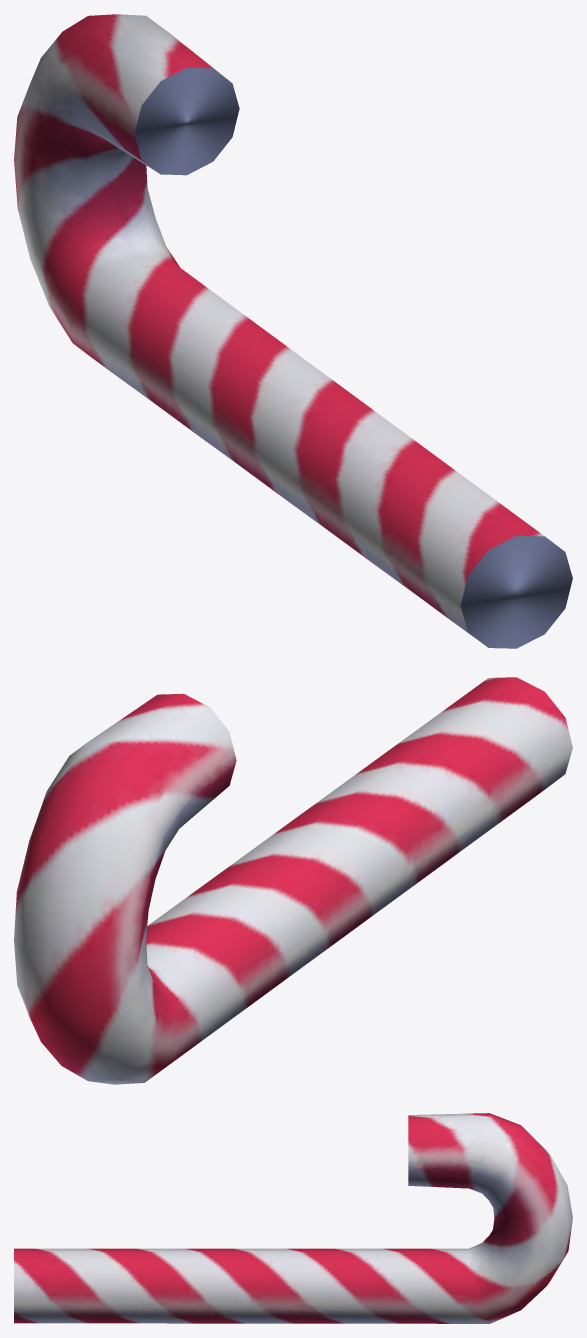
The model's file is CandyCane.fbx.
The picture shows the model from 3 angles, top to bottom: view 1: azimuth 30°, elevation 25°; view 2: azimuth 150°, elevation 25°; view 3: azimuth 270°, elevation 25°; orthographic projection. The views are drawn at different scales.
Visible parts, largest first — view 1: CandyCane; view 2: CandyCane; view 3: CandyCane.
Boxes of the visible parts, bbox=[...] form: CandyCane: bbox=[14, 14, 572, 648]; CandyCane: bbox=[14, 677, 572, 1084]; CandyCane: bbox=[14, 1113, 572, 1323].
Bounding box in the file's own units: 29.92 × 84 × 209.
